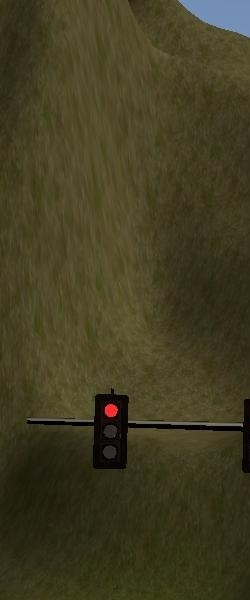Red: (94, 394, 128, 470)
